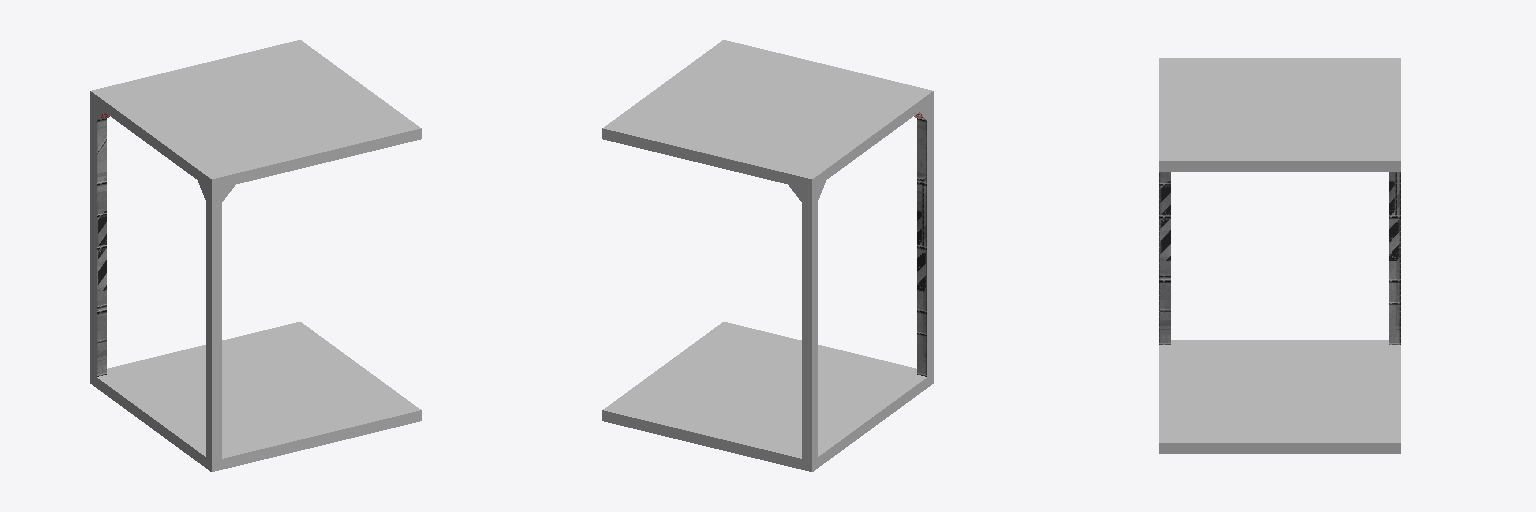
3 views of the same model, side by side, from view 1: azimuth 30°, elevation 25°; view 2: azimuth 150°, elevation 25°; view 3: azimuth 270°, elevation 25° (orthographic).
Parts seen in each view (by area): view 1: Body.010; view 2: Body.010; view 3: Body.010.
Boxes of the visible parts, x1=… form: Body.010: x1=90, y1=40, x2=421, y2=471; Body.010: x1=602, y1=40, x2=933, y2=471; Body.010: x1=1159, y1=58, x2=1400, y2=453.
Size of the model in its own units: 1.5 by 2 by 1.5.
3 materials, 2 textured.